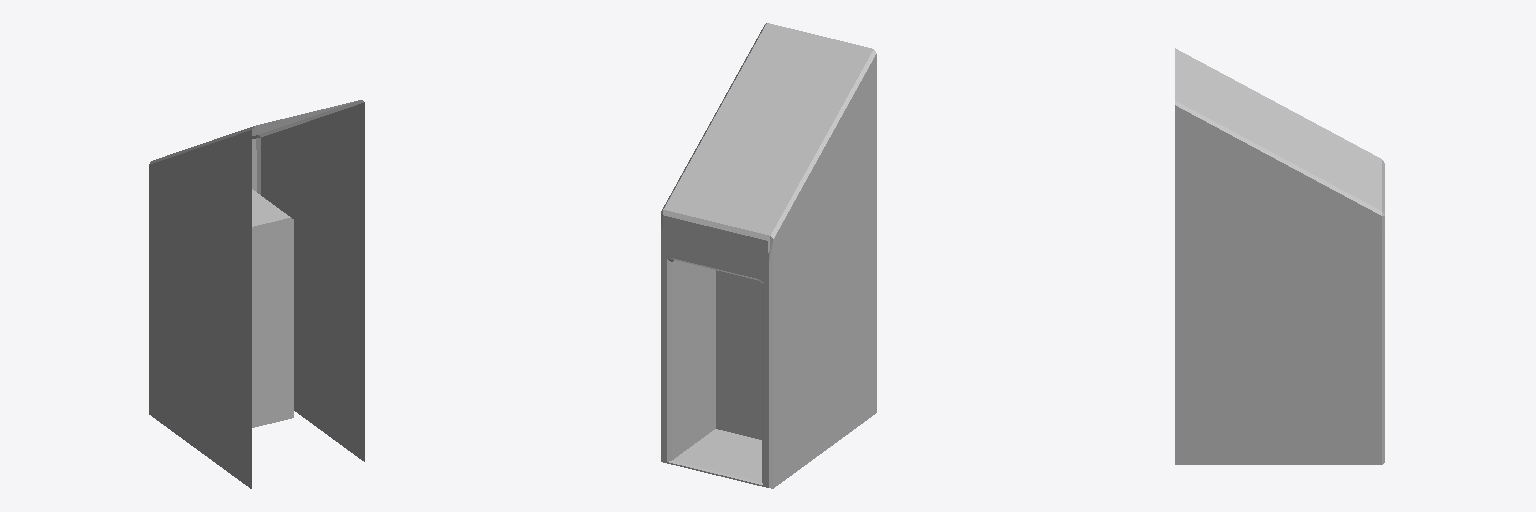
File: Door_final.obj
The picture shows the model from 3 angles: view 1: azimuth 30°, elevation 25°; view 2: azimuth 150°, elevation 25°; view 3: azimuth 270°, elevation 25°; orthographic projection.
Parts seen in each view (by area): view 1: Cube.051_Cube.058; view 2: Cube.051_Cube.058; view 3: Cube.051_Cube.058.
Boxes of the visible parts, <box> form: Cube.051_Cube.058: <box>149,100,364,488</box>; Cube.051_Cube.058: <box>661,23,876,488</box>; Cube.051_Cube.058: <box>1175,48,1384,464</box>.
Bounding box in the file's own units: 6 × 18.5 × 9.69.